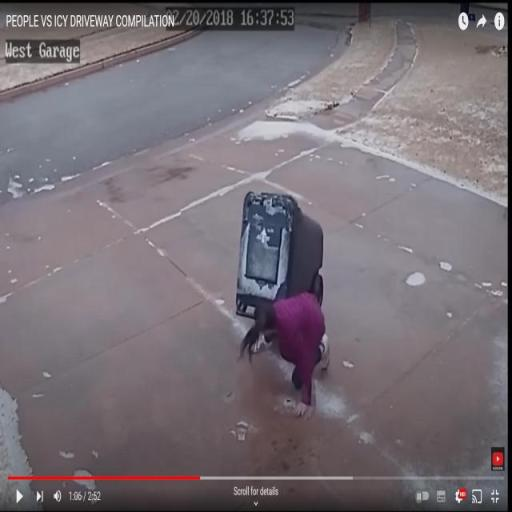Fall: (238, 287, 332, 418)
